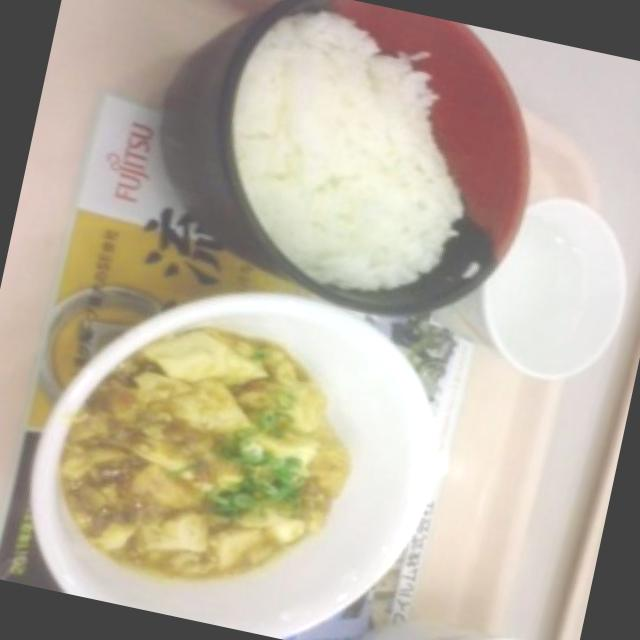Rice: (226, 0, 487, 283)
